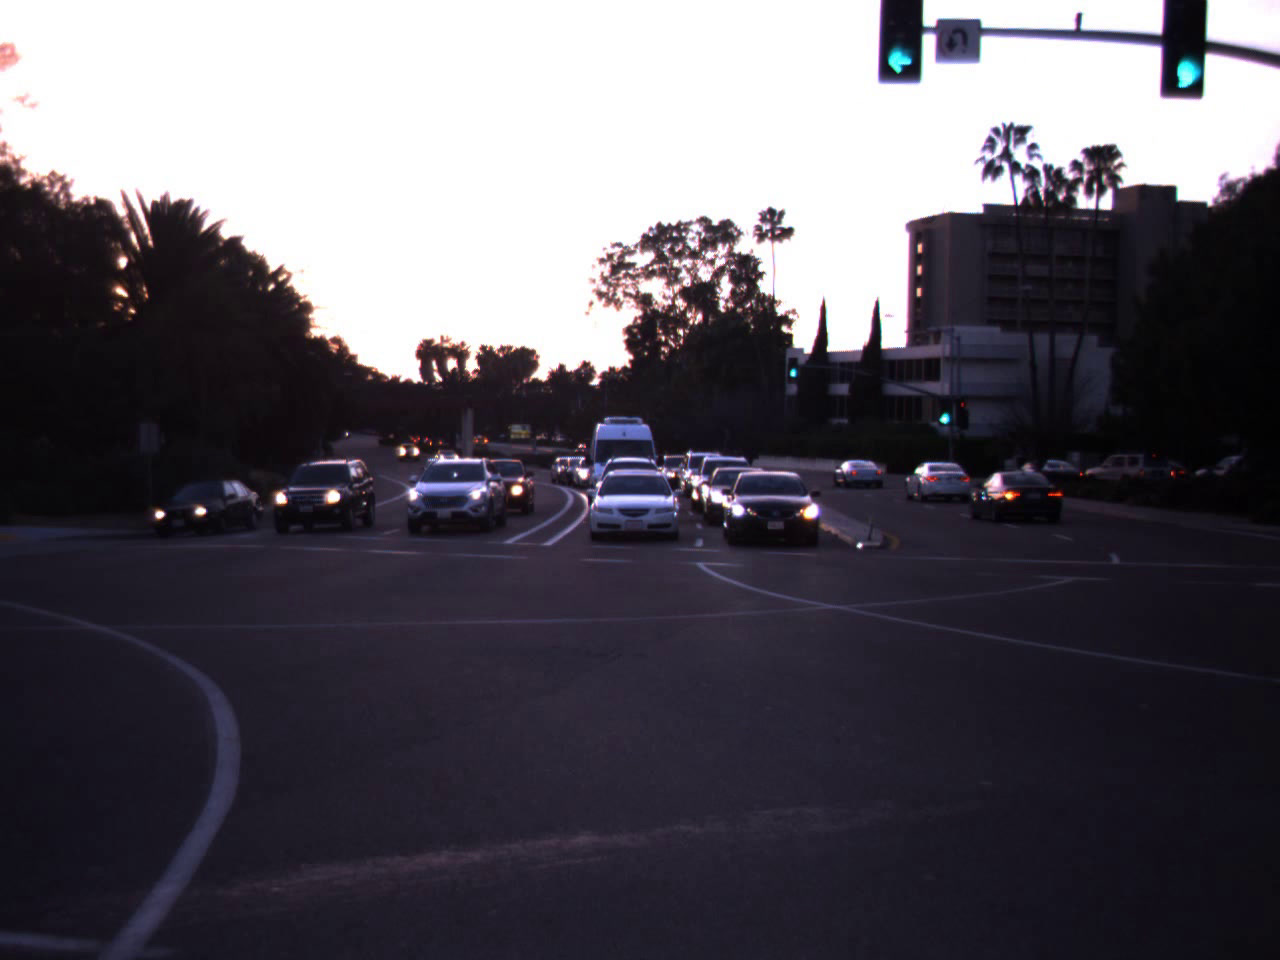go: (855, 0, 942, 92), (1159, 0, 1215, 100), (925, 366, 964, 431), (787, 349, 799, 379)
